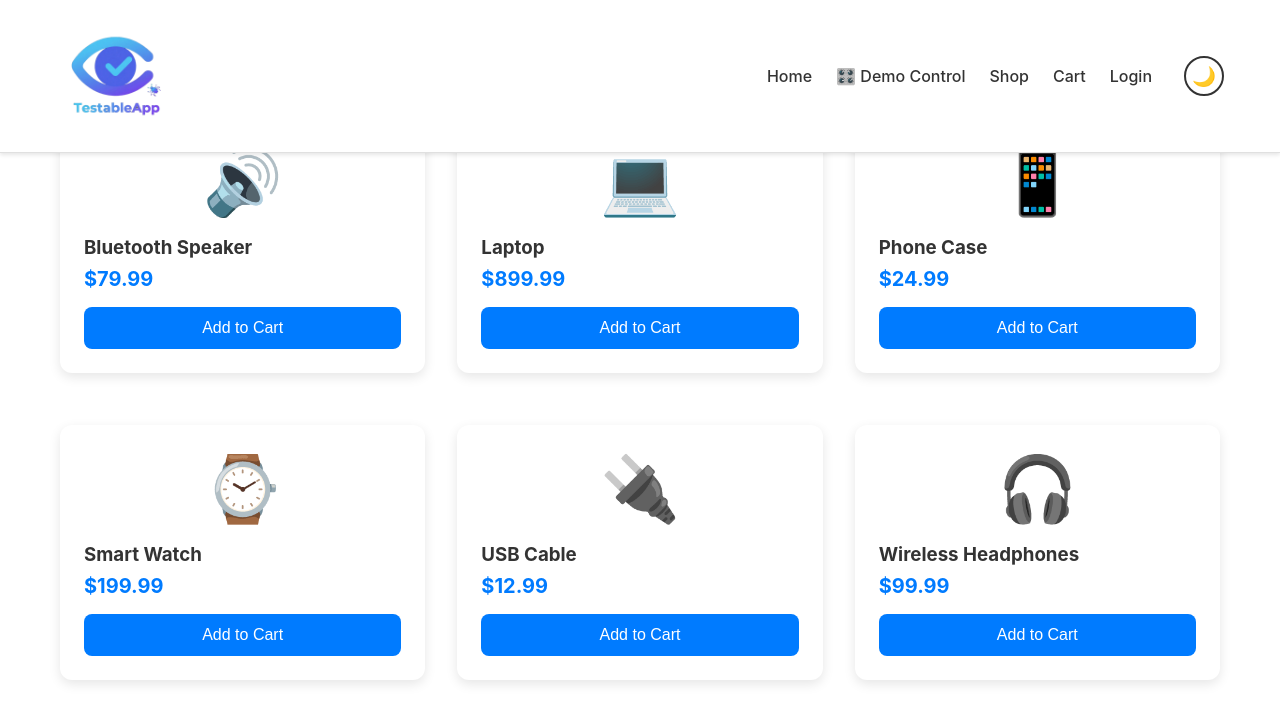
Shopping Flow › Cart Page › should update quantity using increase/decrease buttons
(page scrolled)
Click the button with test id "add-to-cart-1".
click(1038, 635)  # box [879,614,1196,656]
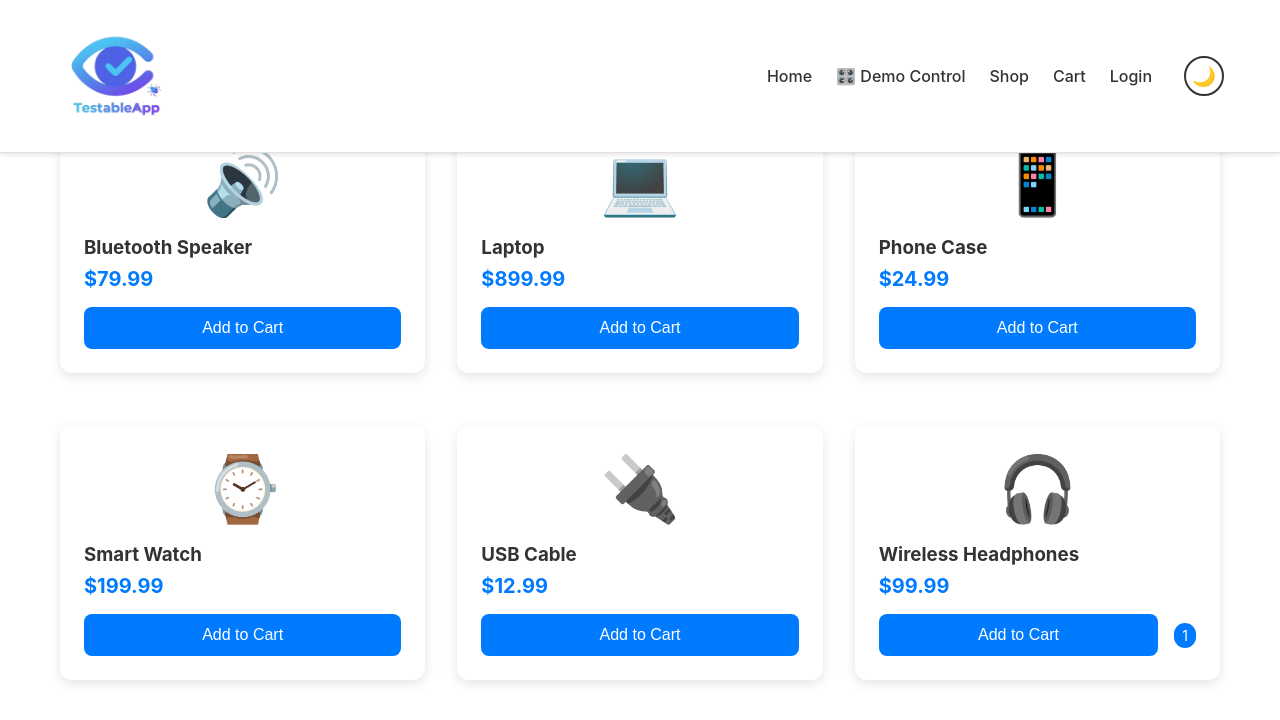
Open "/cart"
(page scrolled)
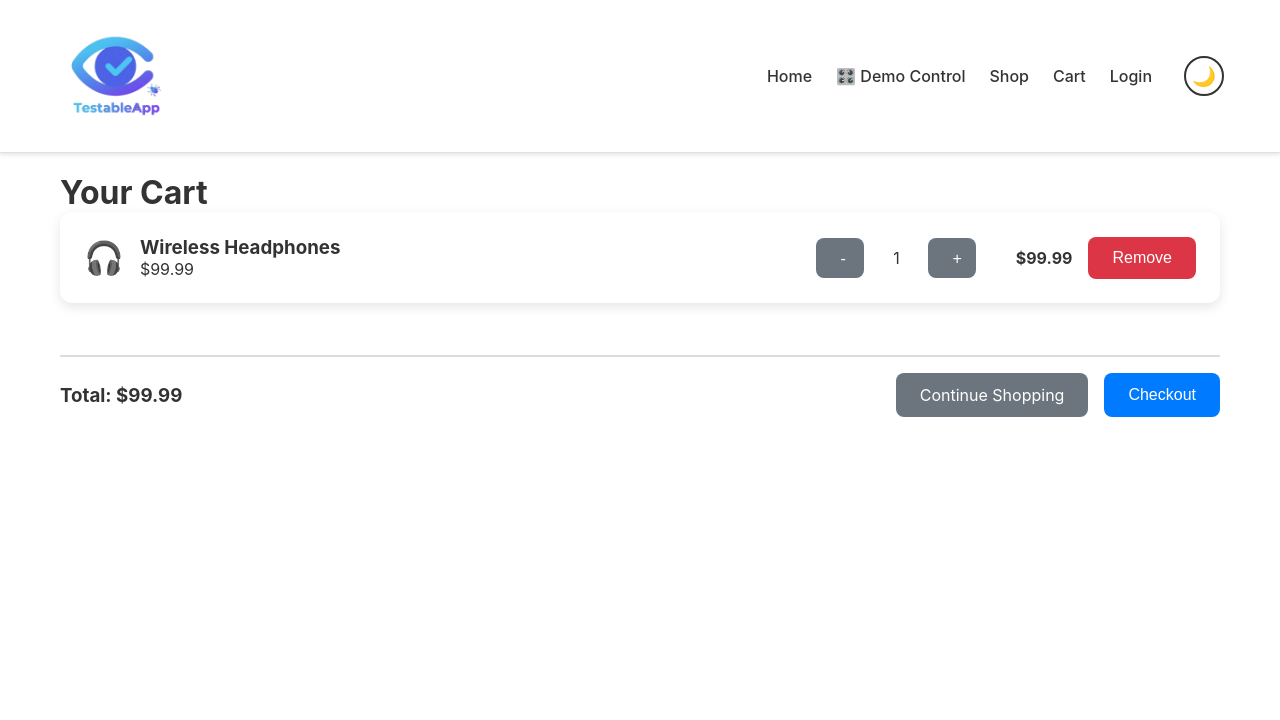
expect the text with test id "quantity-1" reads "1": met, box [893,248,900,268]
Click the button with test id "increase-1".
click(952, 258)  # box [928,238,976,278]
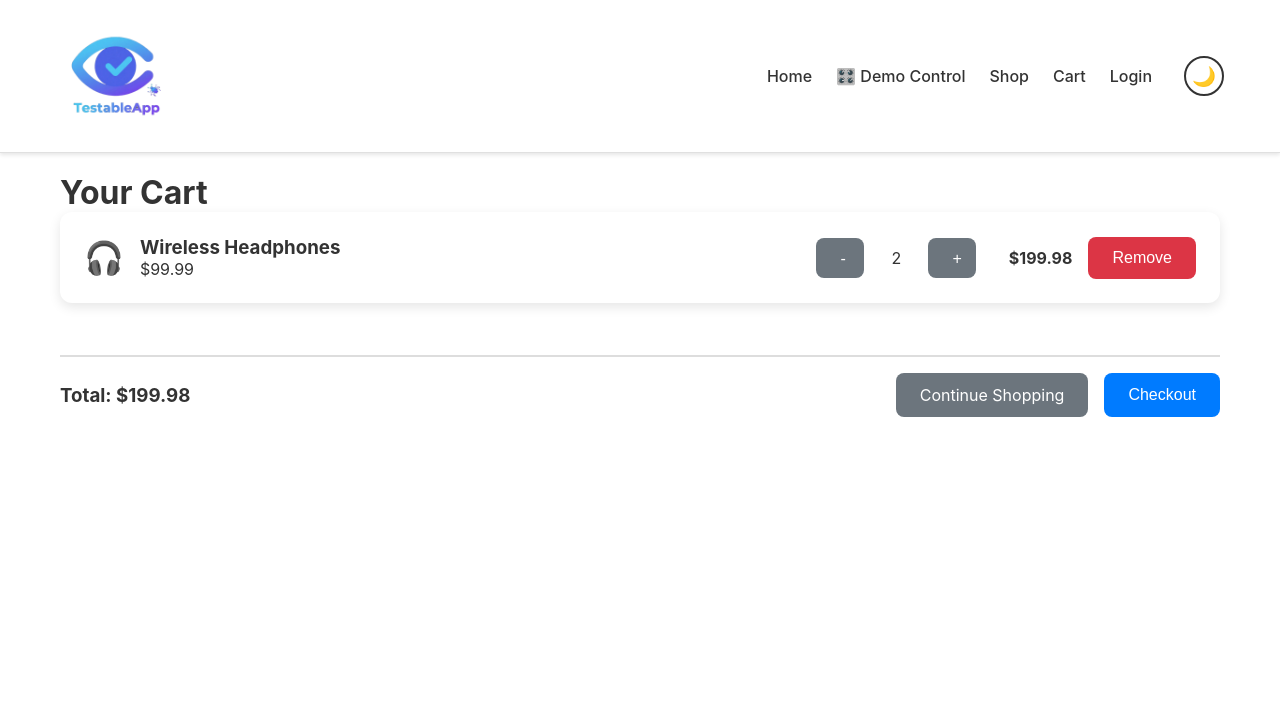
expect the text with test id "quantity-1" reads "2": met, box [892,248,902,268]
Click the button with test id "decrease-1".
click(840, 258)  # box [816,238,864,278]
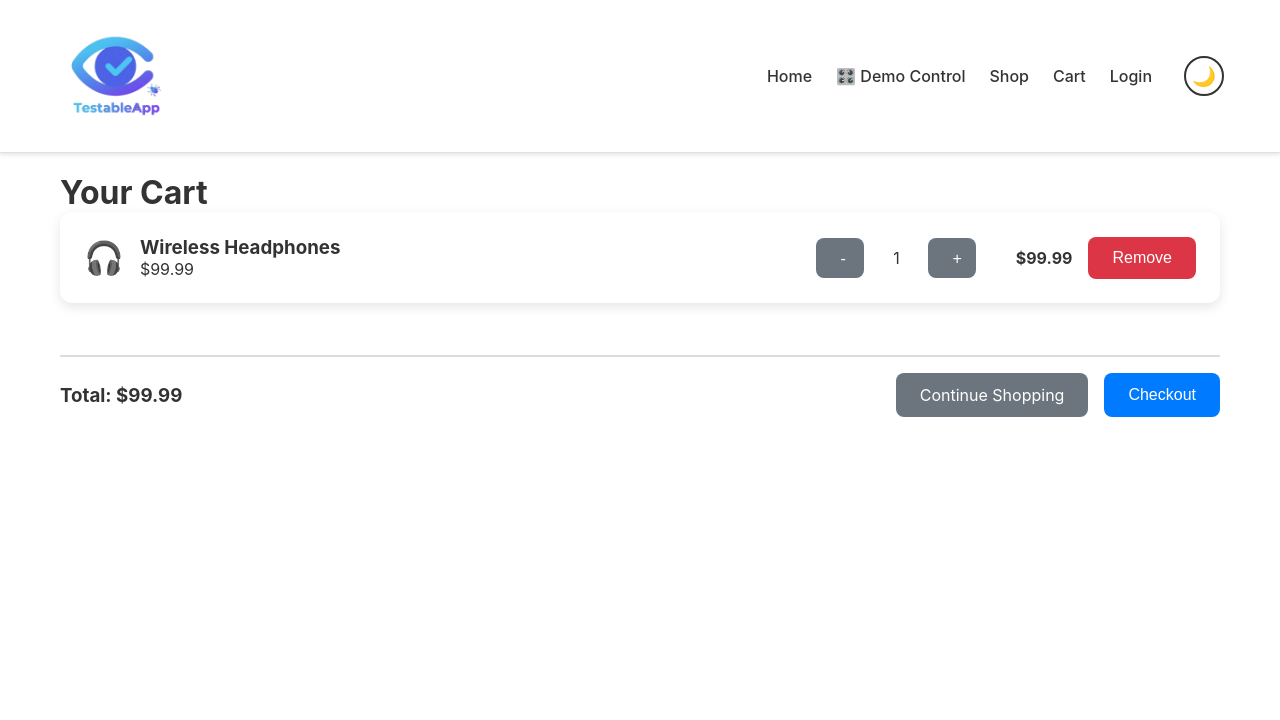
expect the text with test id "quantity-1" reads "1": met, box [893,248,900,268]
